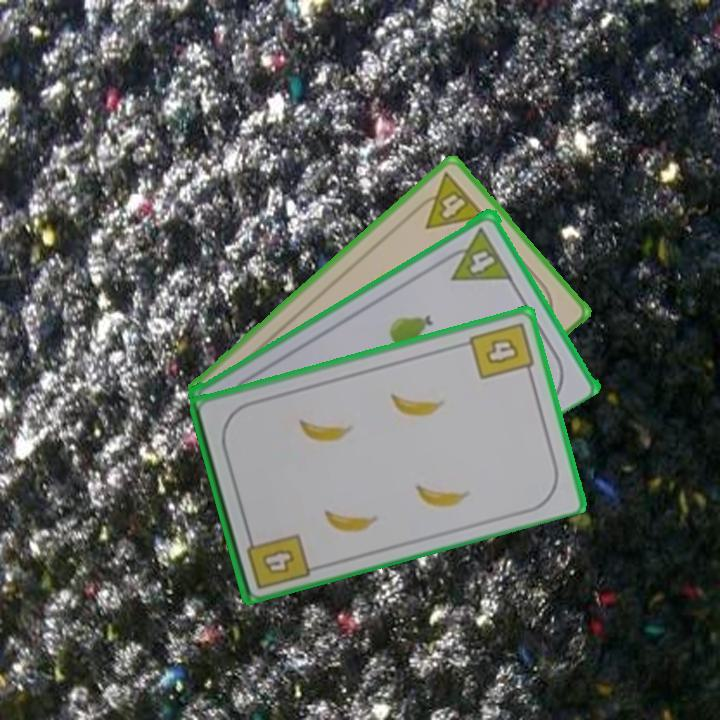4b: (242, 527, 312, 592), (466, 318, 537, 382)
4p: (408, 169, 489, 232), (451, 242, 511, 284)
